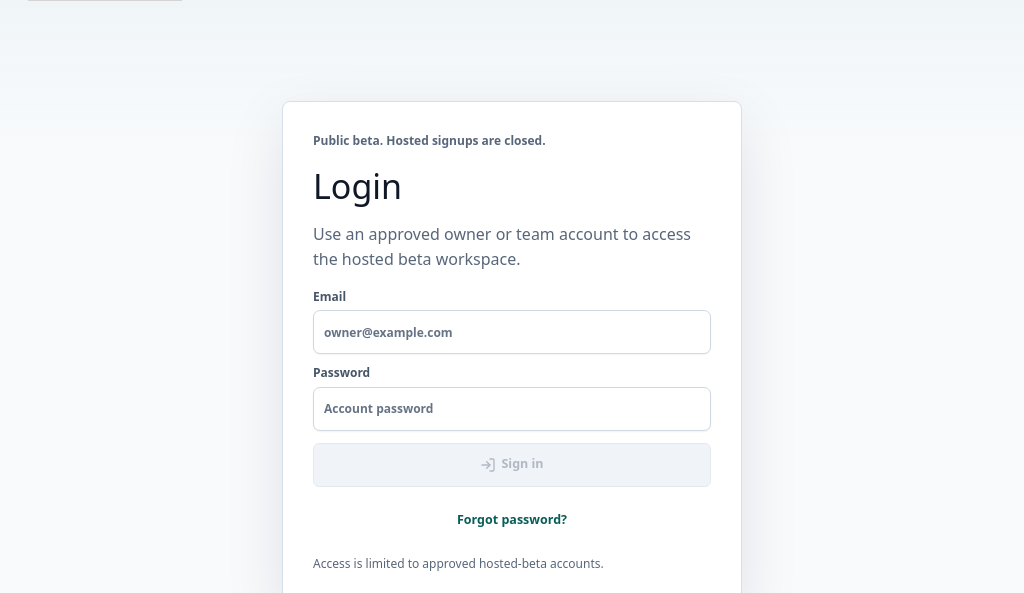
login form can request a password reset email
The image size is (1024, 593).
Click the button "Forgot password?" at (512,521), box [313, 499, 711, 543]
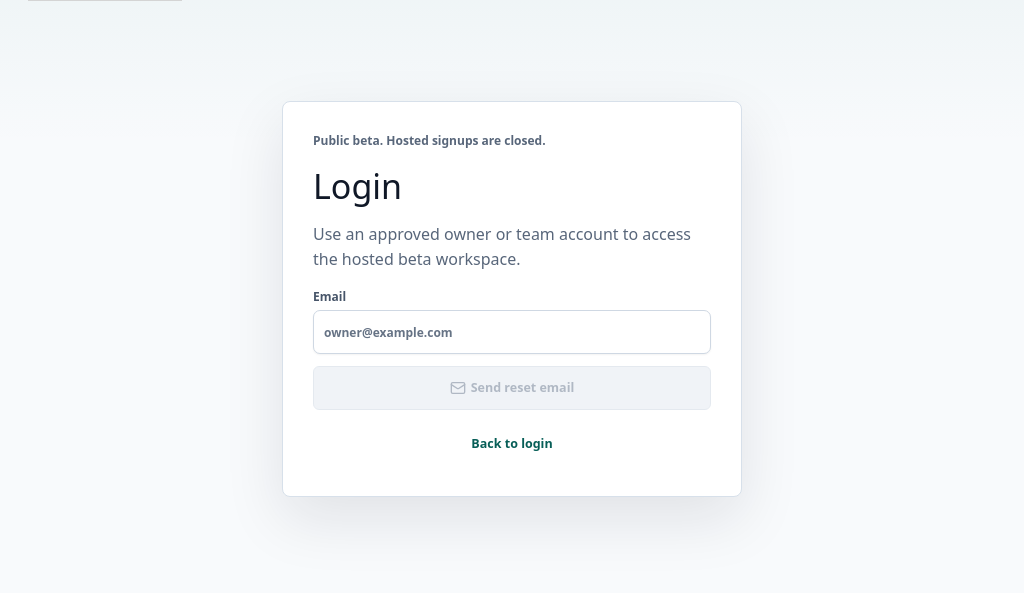
Type "reader@example.com" into the field named "Reset email" at (512,332), box [313, 310, 711, 354]
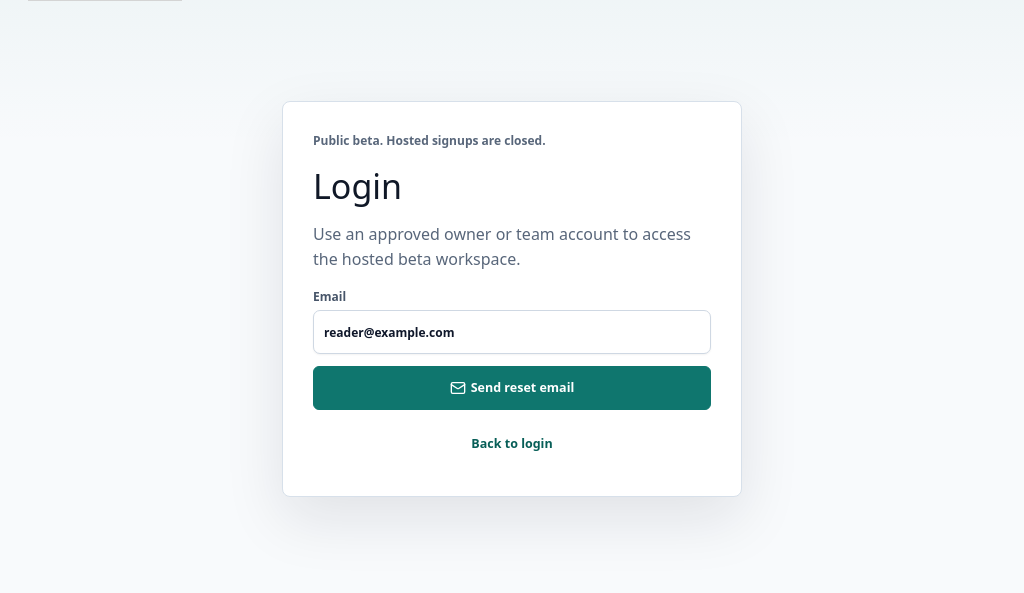
Click the button "Send reset email" at (512,388), box [313, 366, 711, 410]
(page scrolled)
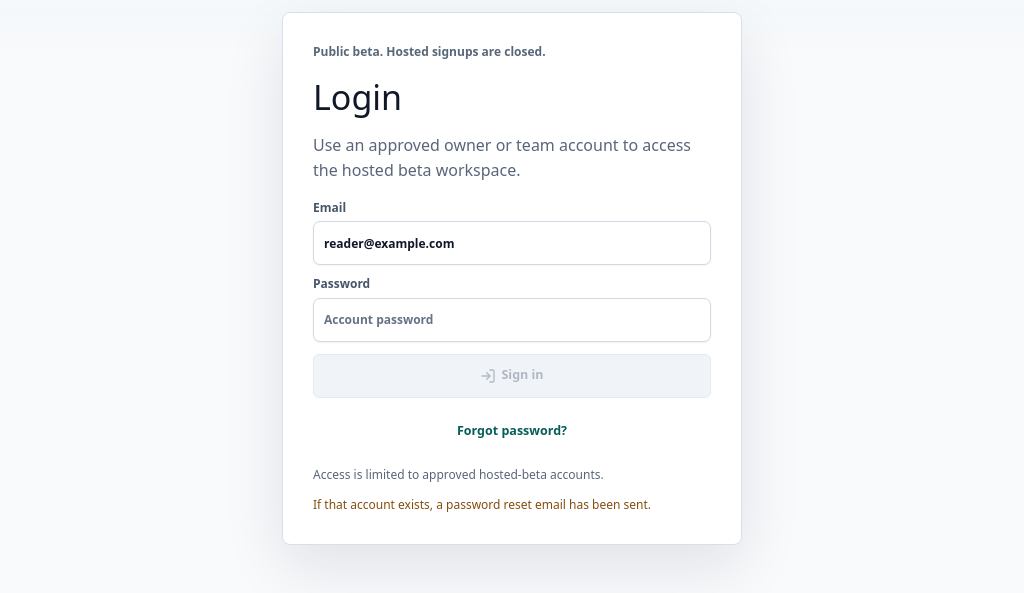
Now the text "If that account exists, a password reset email has been sent." is shown, box [313, 496, 651, 513]
